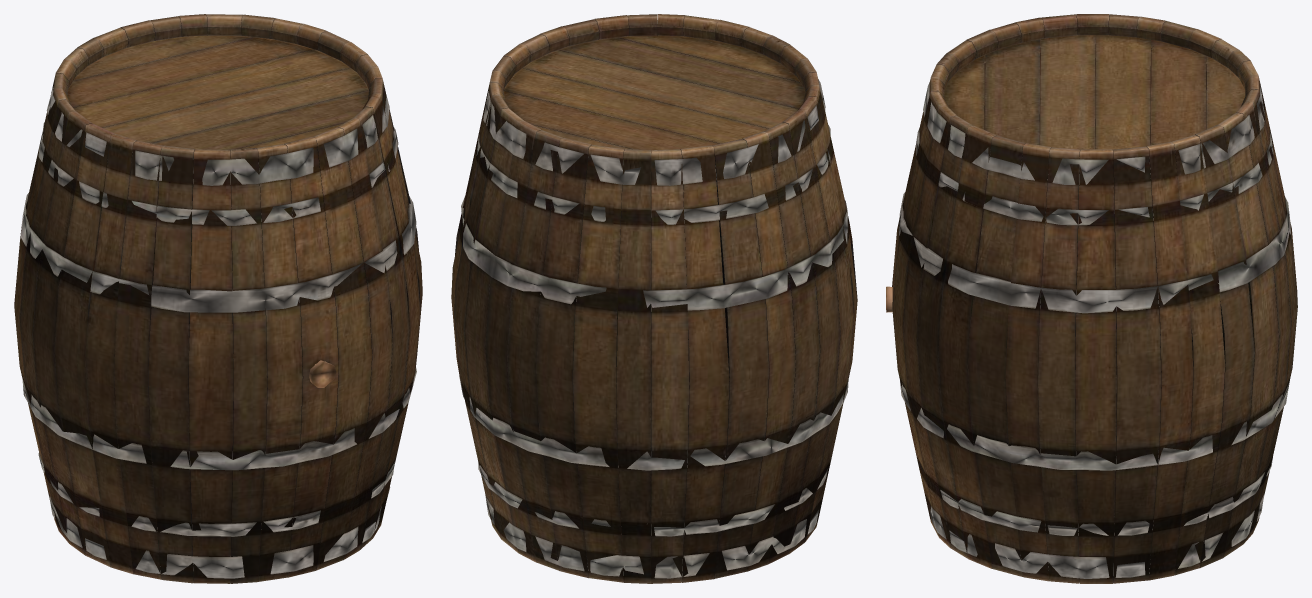
Rendered from wine_barrel_01.glb.
The picture shows the model from 3 angles, left to right: view 1: azimuth 30°, elevation 25°; view 2: azimuth 150°, elevation 25°; view 3: azimuth 270°, elevation 25°; orthographic projection.
Parts seen in each view (by area): view 1: wine_barrel_01_Lid; view 2: wine_barrel_01_Lid; view 3: wine_barrel_01_Lid.
Boxes of the visible parts, x1,y1,x2,y2 form: wine_barrel_01_Lid: (14,14,422,583); wine_barrel_01_Lid: (451,14,857,583); wine_barrel_01_Lid: (886,14,1297,583).
Size of the model in its own units: 0.7419 by 0.8695 by 0.7521.
Materials: 1 (1 with a texture image).
